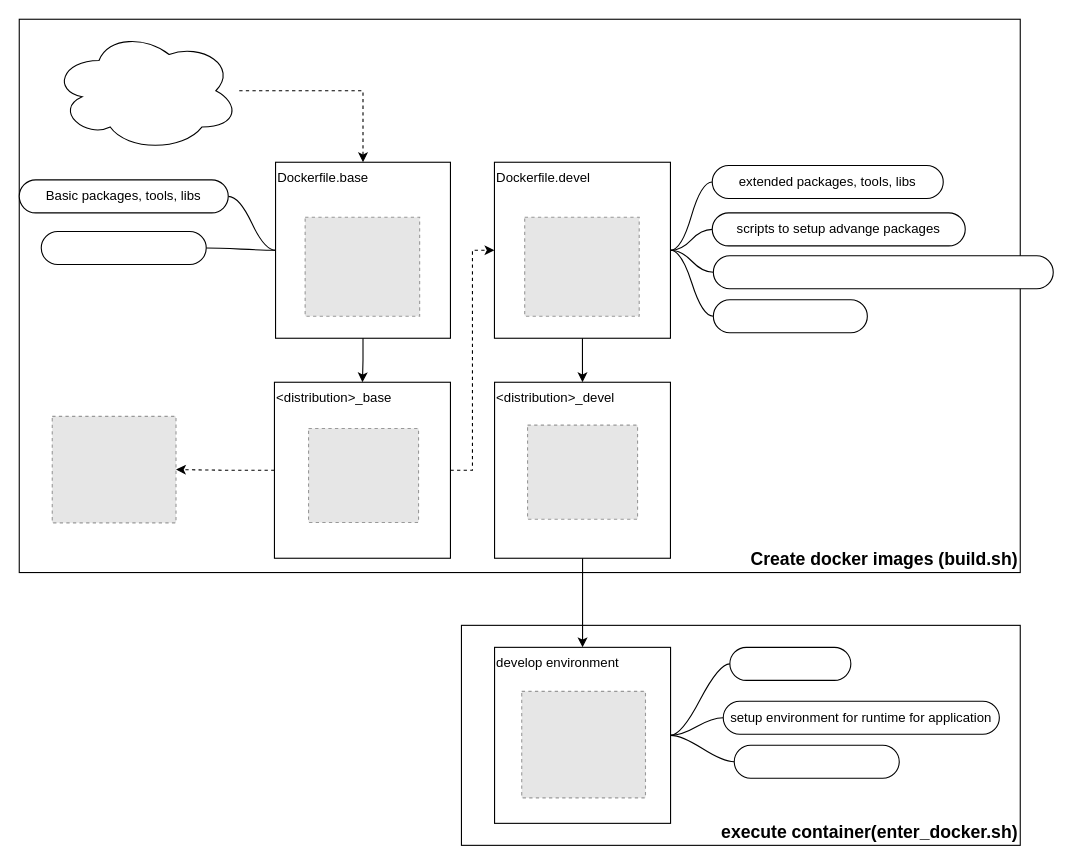
The diagram is 1073 pixels wide and 865 high, and some of its shapes have lost their labels. Grey dashed boxes stand in for pictures. The centre of each missing label's shape, as x and y in pixels:
"enable NVIDIA GPU" goes at point 816,761.
"mount point" goes at point 790,663.
"Registry local or public repo" goes at point 145,90.
"Regular user define" goes at point 123,247.
"scripts to setup environment for runtime (entrypoint)" goes at point 882,272.
"setup cuda toolkit" goes at point 789,316.
